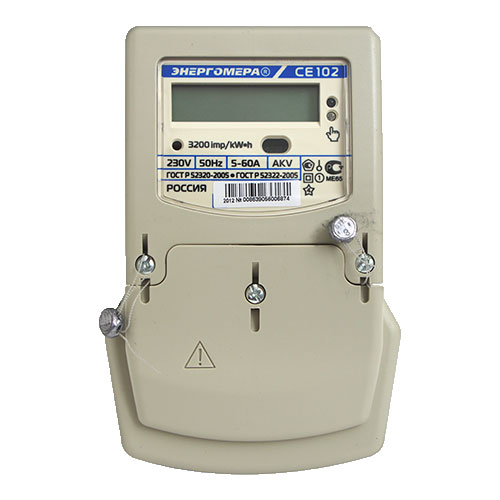counter: (97, 21, 402, 471)
counter_screen: (169, 81, 321, 124)
